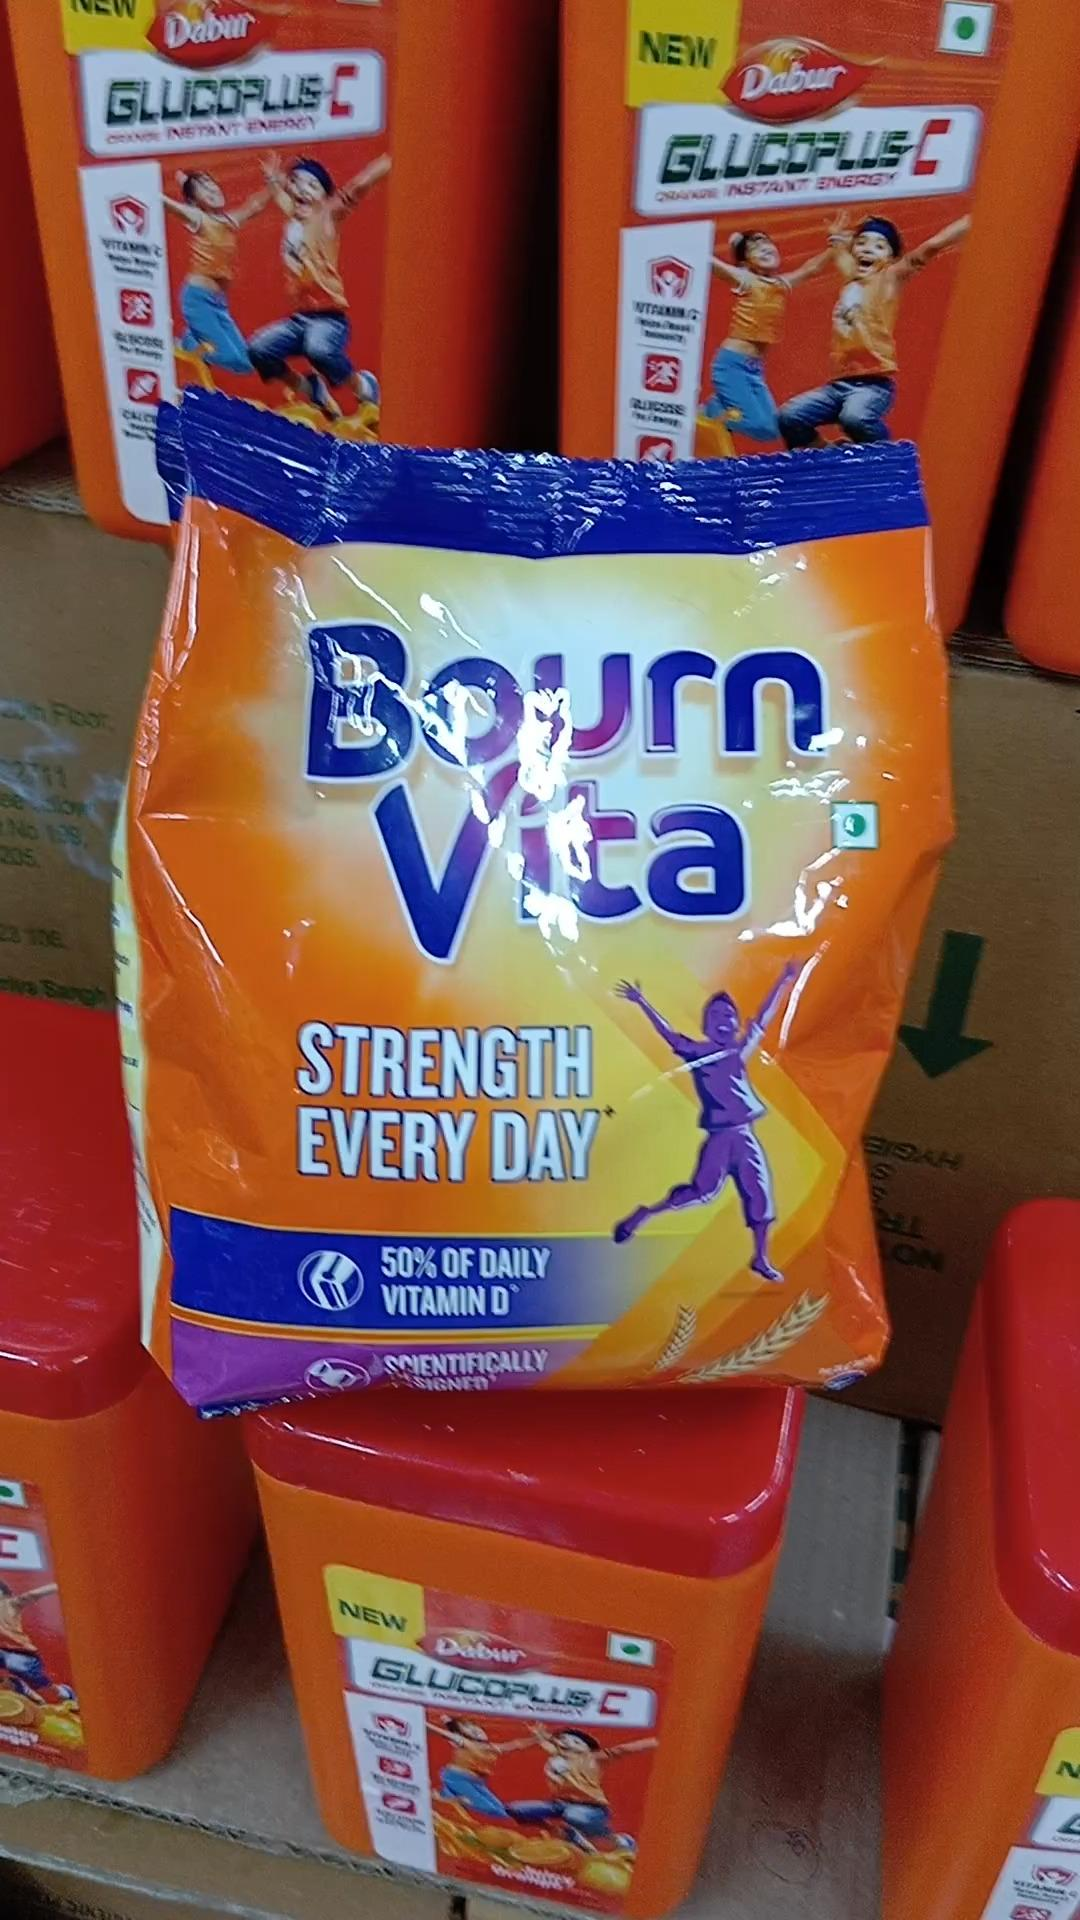BOURN_VITA_500_G_POUCH: (140, 380, 898, 1403)
